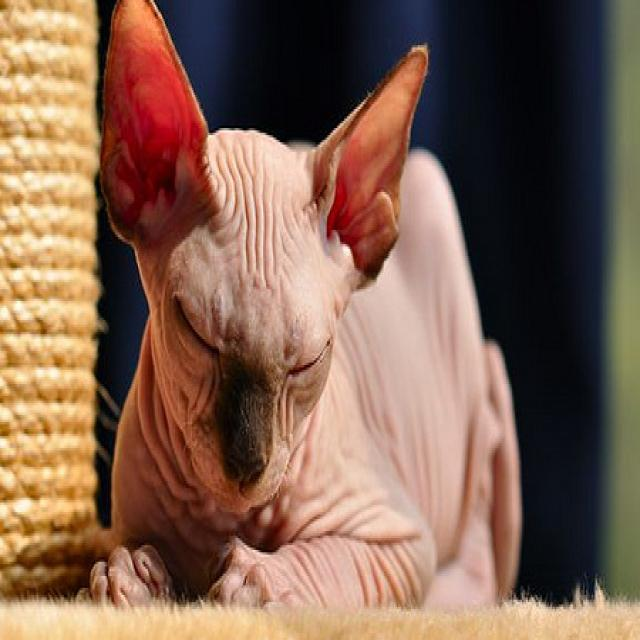Sphynx: (75, 0, 526, 604)
